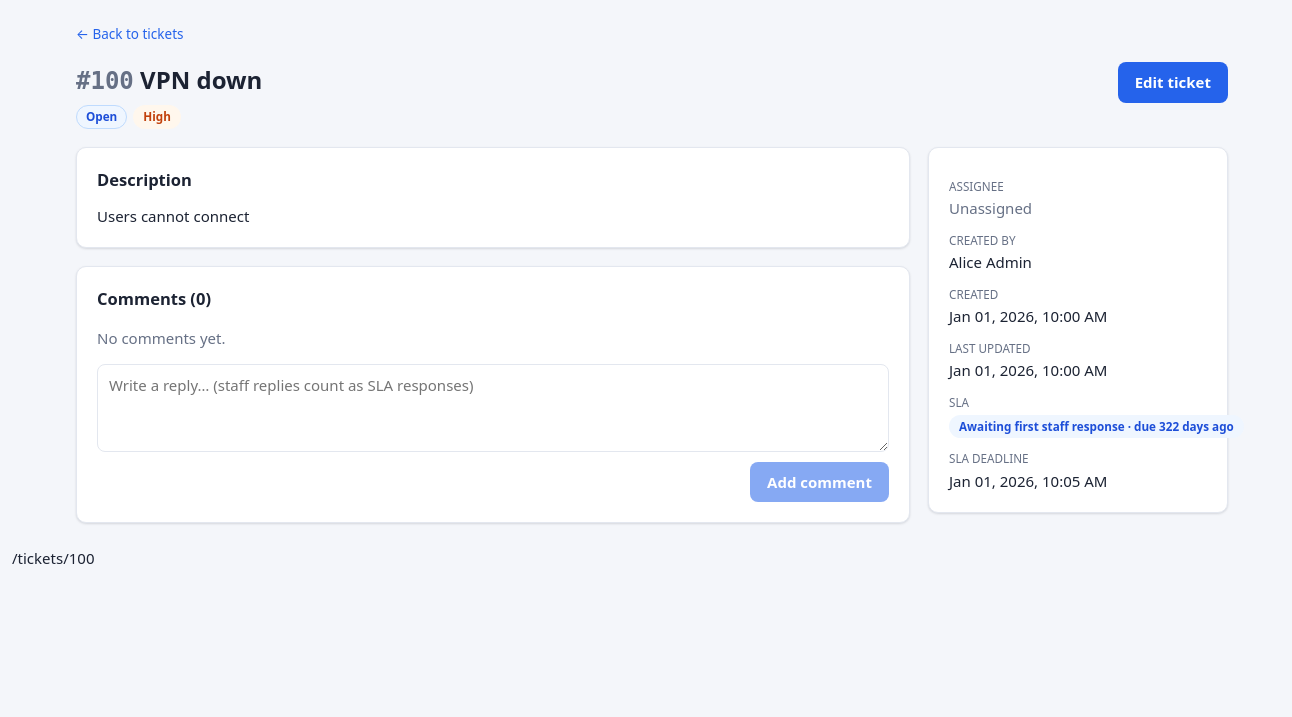
TicketDetails › edits the ticket (staff-only assignees) and shows a success notice
Click the button "Edit ticket" at (1173, 83), box x1=1118 y1=62 x2=1228 y2=103
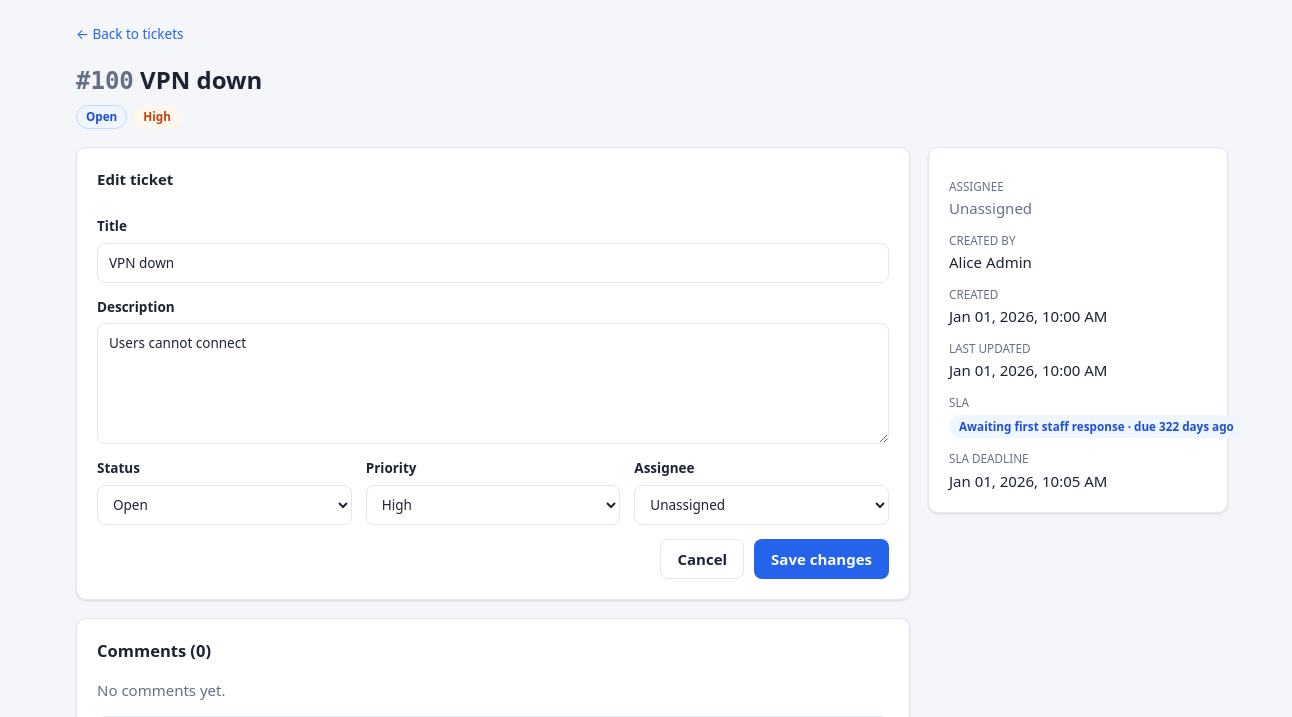
Select "In progress" in the dropdown labelled "Status" at (224, 504), box x1=97 y1=484 x2=352 y2=524
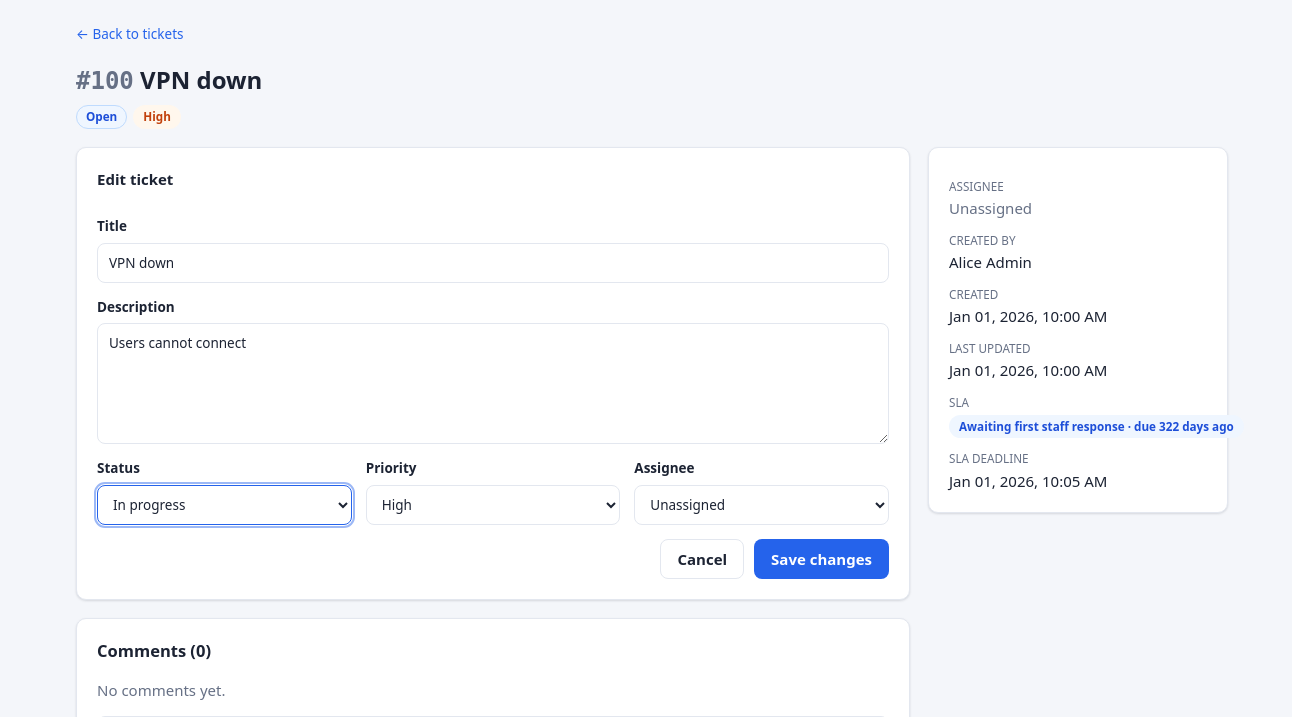
Click the button "Save changes" at (822, 559), box x1=754 y1=538 x2=889 y2=579
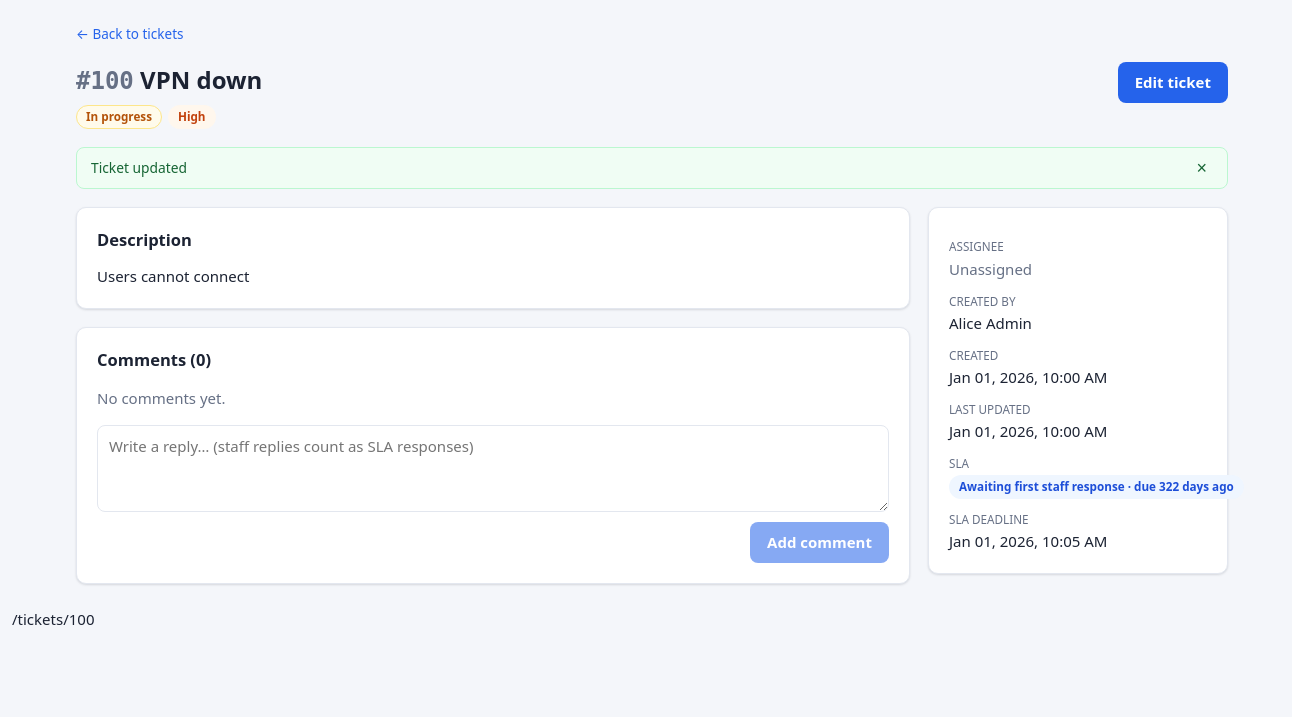
Expected: the text "Ticket updated" is shown, x1=91 y1=158 x2=187 y2=178
Expected: the text "In progress" is shown, x1=76 y1=105 x2=162 y2=129
Click the button named "Dismiss" at (1202, 168), box x1=1190 y1=158 x2=1213 y2=178
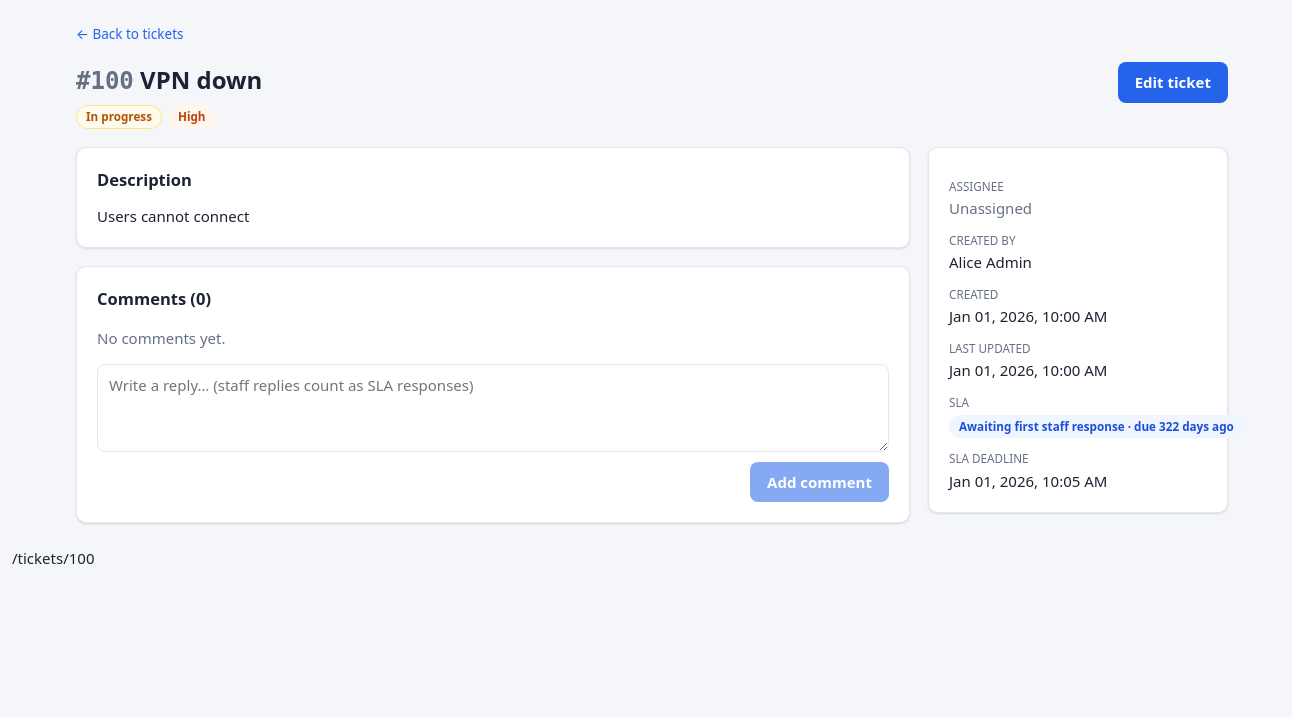
Expected: the text "Ticket updated" is gone
